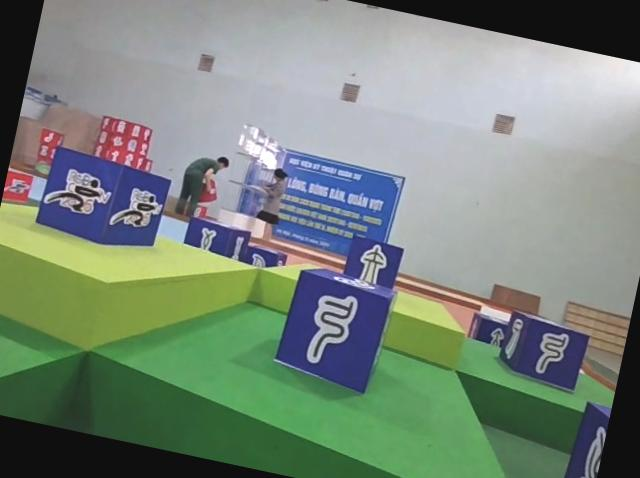R1 Blue: (33, 146, 172, 257)
R2 Fake Blue: (270, 260, 403, 400), (495, 309, 592, 395), (550, 399, 611, 478), (341, 235, 405, 292)
R2 Real Blue: (181, 215, 252, 263), (467, 311, 512, 349), (239, 243, 288, 274)
